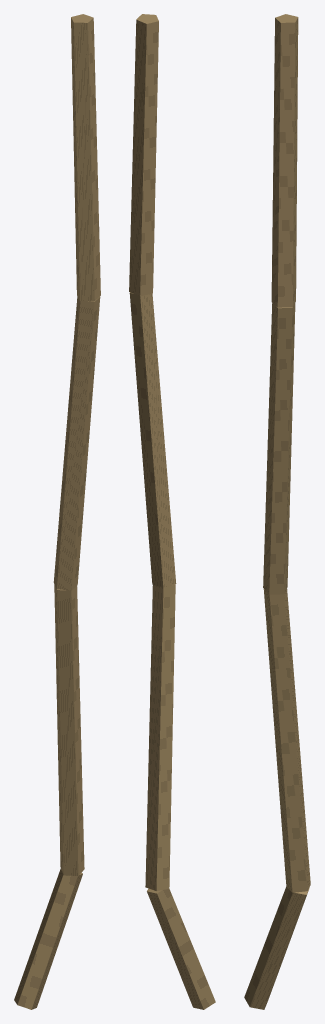
The model's file is f_rope_up.glb.
The picture shows the model from 3 angles, left to right: view 1: azimuth 30°, elevation 25°; view 2: azimuth 210°, elevation 25°; view 3: azimuth 330°, elevation 25°; orthographic projection.
Visible parts, largest first — view 1: block_suspended-climb-line-3, block_suspended-climb-line-2, block_suspended-climb-line-4, block_suspended-climb-line-1; view 2: block_suspended-climb-line-2, block_suspended-climb-line-3, block_suspended-climb-line-4, block_suspended-climb-line-1; view 3: block_suspended-climb-line-2, block_suspended-climb-line-4, block_suspended-climb-line-3, block_suspended-climb-line-1.
Part boxes in pixels (x1,y1,x2,y2): block_suspended-climb-line-3: (53, 296, 100, 590); block_suspended-climb-line-2: (54, 584, 84, 875); block_suspended-climb-line-4: (71, 14, 100, 301); block_suspended-climb-line-1: (14, 869, 82, 1009); block_suspended-climb-line-2: (145, 584, 175, 890); block_suspended-climb-line-3: (129, 292, 176, 587); block_suspended-climb-line-4: (129, 14, 158, 296); block_suspended-climb-line-1: (147, 888, 215, 1009); block_suspended-climb-line-2: (263, 589, 310, 892); block_suspended-climb-line-4: (271, 14, 298, 307); block_suspended-climb-line-3: (263, 303, 295, 594); block_suspended-climb-line-1: (244, 887, 309, 1009).
Bounding box in the file's own units: 0.1374 × 1.98 × 0.1068.
1 material, 1 textured.
